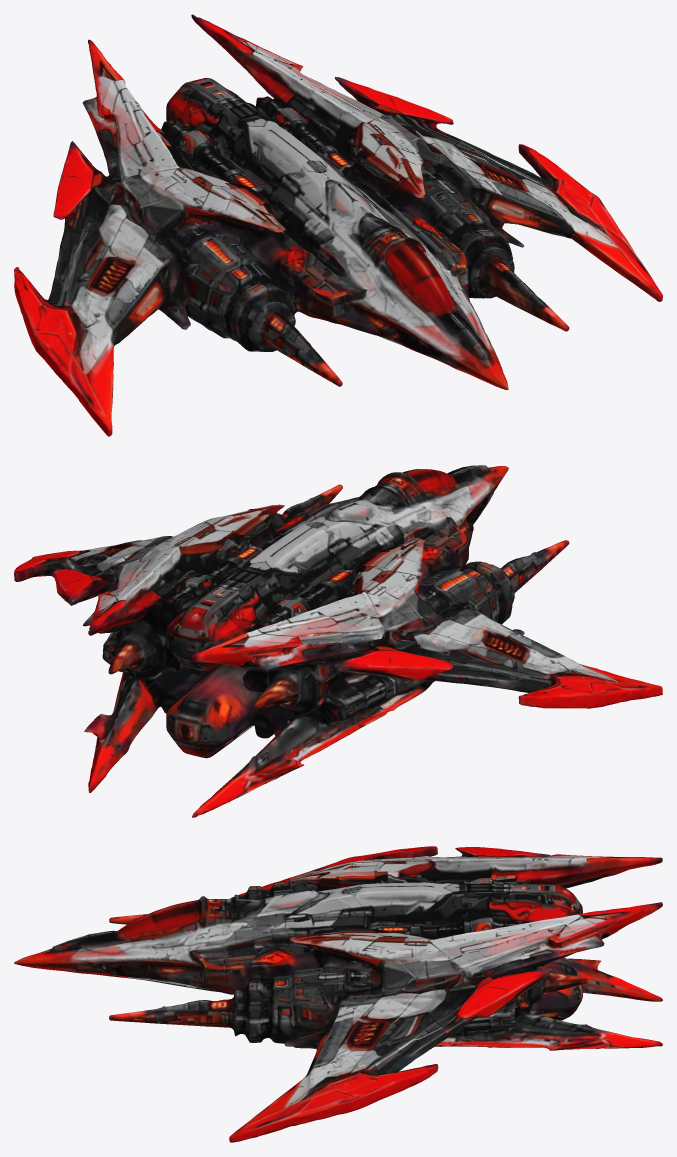
The model's file is espectro.glb.
3 renders of one model, top to bottom at view 1: azimuth 30°, elevation 25°; view 2: azimuth 150°, elevation 25°; view 3: azimuth 270°, elevation 25°, orthographic. The views are drawn at different scales.
Visible parts, largest first — view 1: input; view 2: input; view 3: input.
Part boxes in pixels (x1,y1,x2,y2): input: [14, 14, 662, 436]; input: [14, 465, 662, 817]; input: [14, 846, 662, 1142].
Size of the model in its own units: 3.11 by 0.8592 by 3.5.
Materials: 1 (1 with a texture image).
